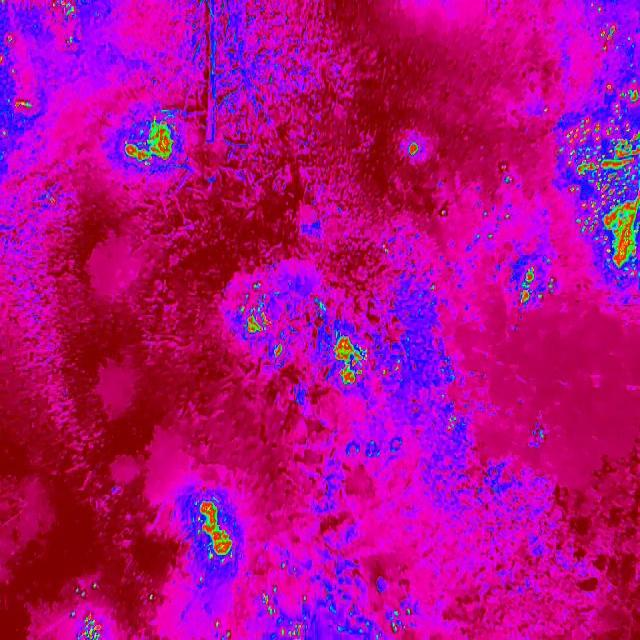fire: (563, 87, 640, 272), (213, 587, 414, 640), (236, 279, 286, 362), (468, 170, 520, 248), (193, 500, 236, 562), (67, 574, 107, 640), (123, 120, 177, 165), (330, 333, 368, 389), (588, 0, 624, 56), (514, 267, 556, 304), (49, 0, 79, 48), (0, 31, 15, 67), (402, 139, 420, 159), (14, 100, 34, 111)
